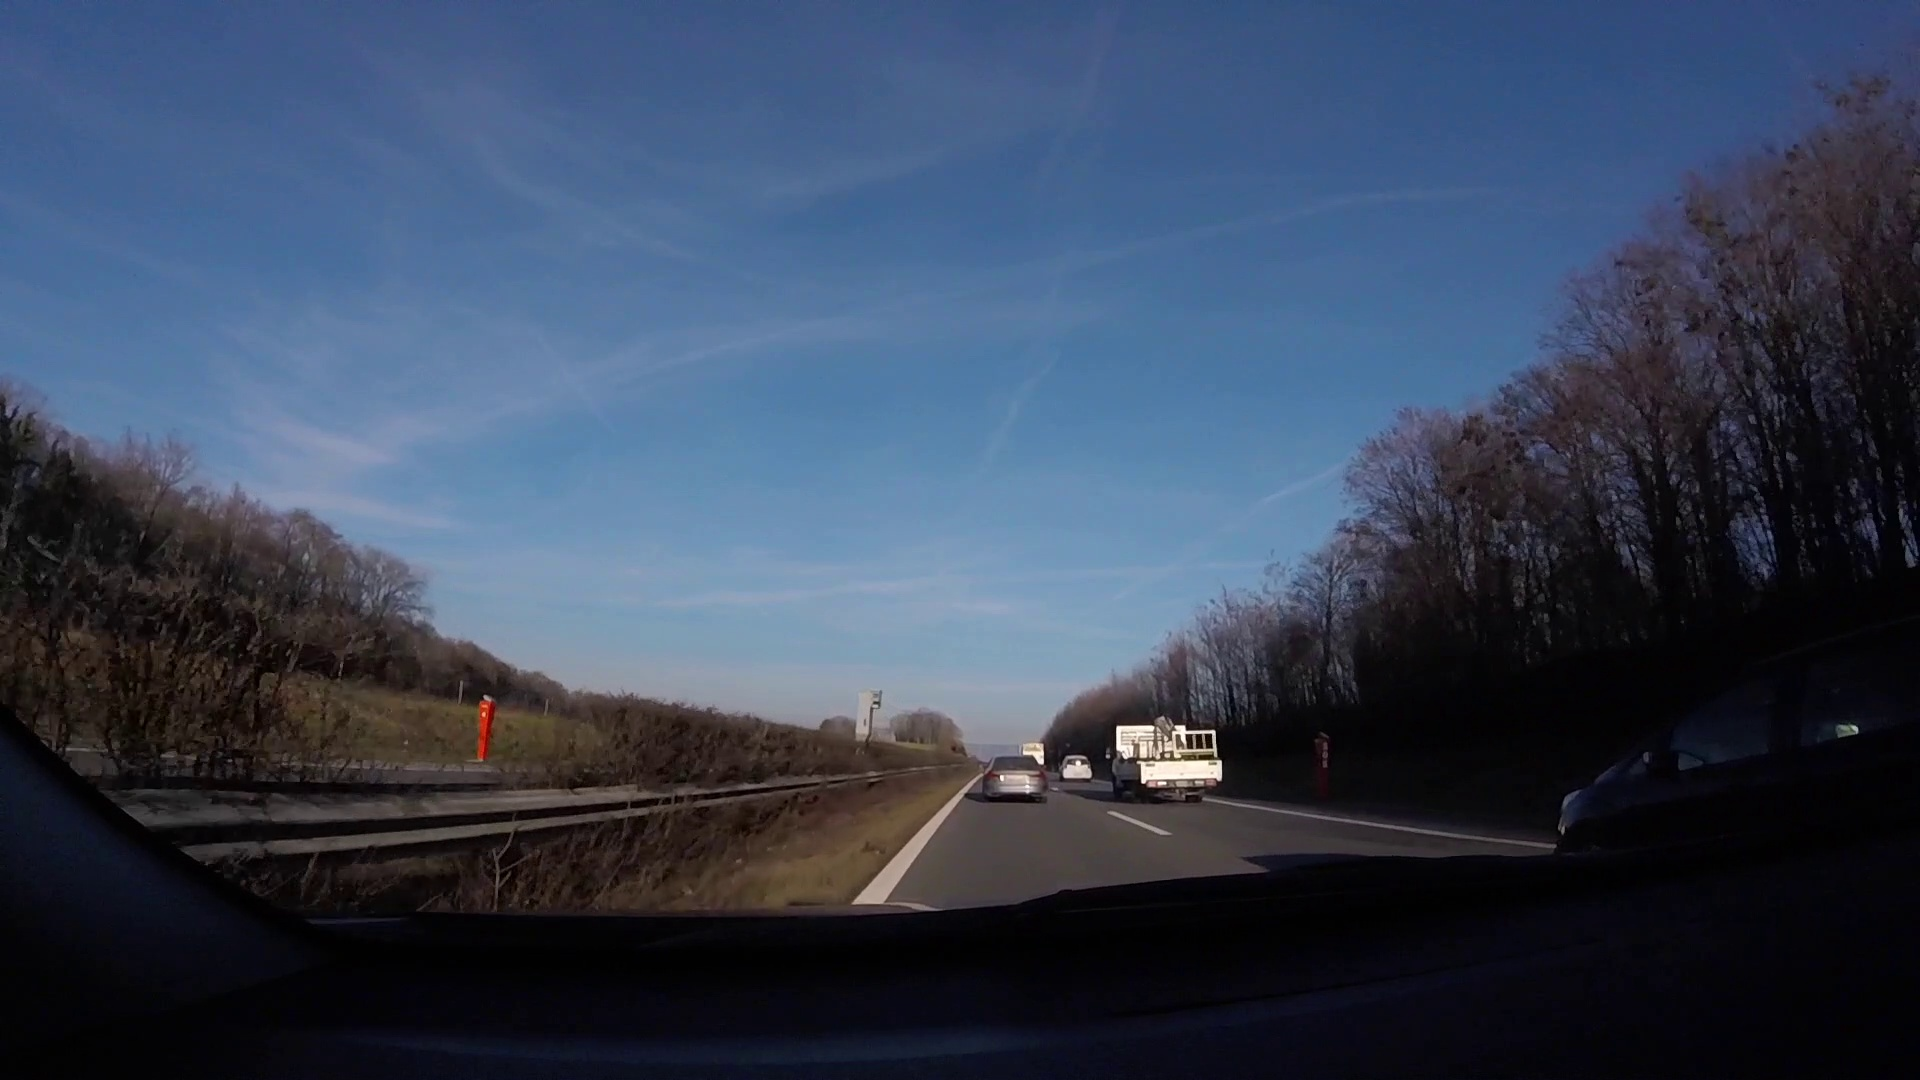radar: (855, 686, 885, 746)
